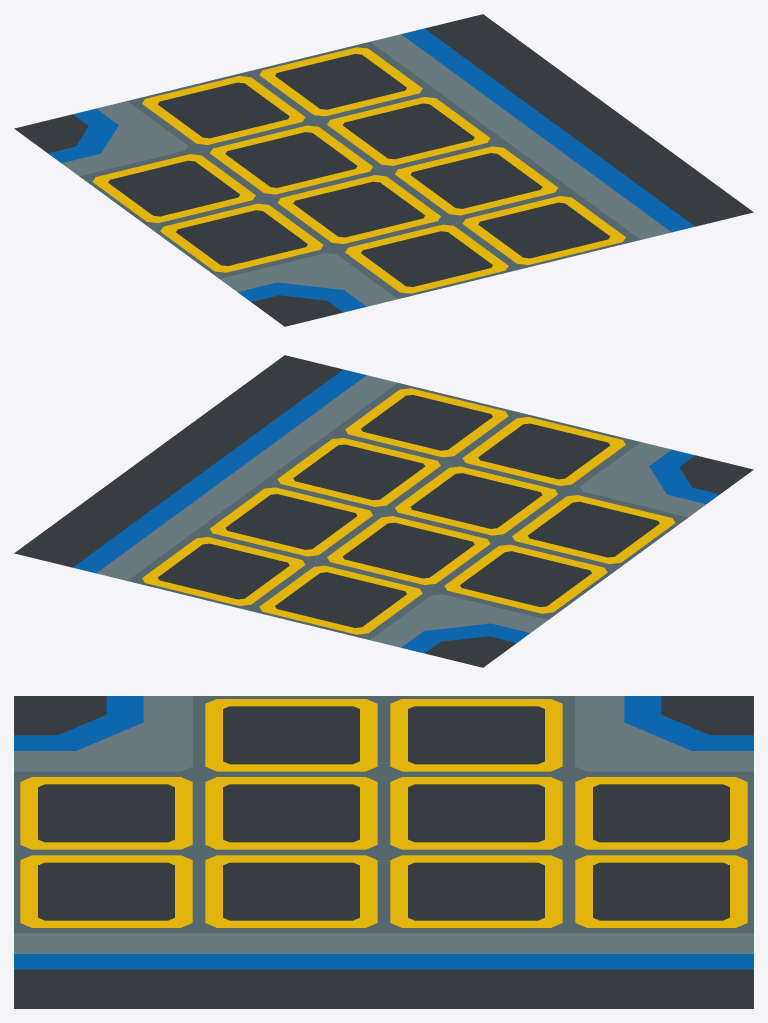
The model's file is Floor_type_C_001.fbx.
3 renders of one model, top to bottom at view 1: azimuth 30°, elevation 25°; view 2: azimuth 150°, elevation 25°; view 3: azimuth 270°, elevation 25°, orthographic. The views are drawn at different scales.
Parts seen in each view (by area): view 1: Floor_type_C_001; view 2: Floor_type_C_001; view 3: Floor_type_C_001.
Boxes of the visible parts, x1,y1,x2,y2 form: Floor_type_C_001: [14, 14, 753, 326]; Floor_type_C_001: [14, 355, 753, 667]; Floor_type_C_001: [14, 696, 753, 1008].
Size of the model in its own units: 400 by 400 by 1.75e-21.
